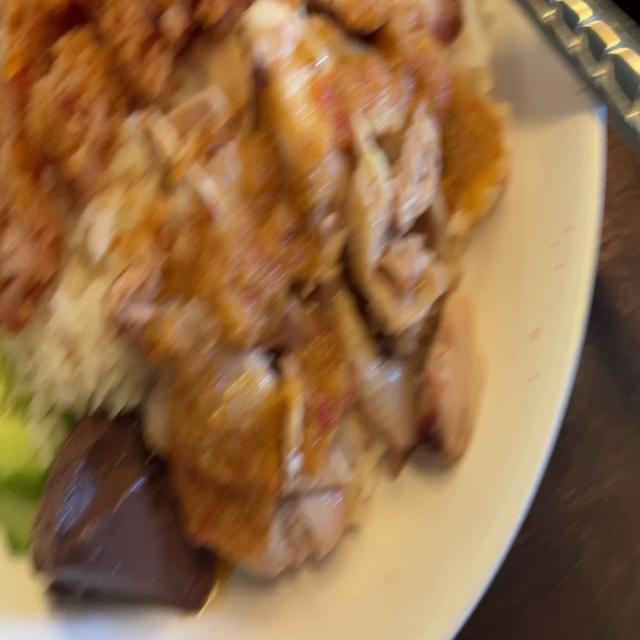boiled_chicken: (176, 2, 506, 510)
boiled_chicken_blood_jelly: (41, 409, 204, 612)
chicken_rice: (0, 0, 514, 605)
cucumber: (0, 330, 67, 542)
fried_chicken: (0, 0, 198, 300)
